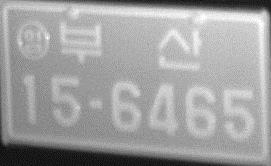-: (88, 96, 105, 112)
1: (18, 71, 42, 127)
4: (146, 83, 180, 137)
5: (222, 87, 256, 142), (49, 75, 82, 130)
6: (184, 84, 217, 140), (109, 79, 141, 134)
부산_D: (58, 18, 203, 71)
영: (15, 20, 52, 61)
